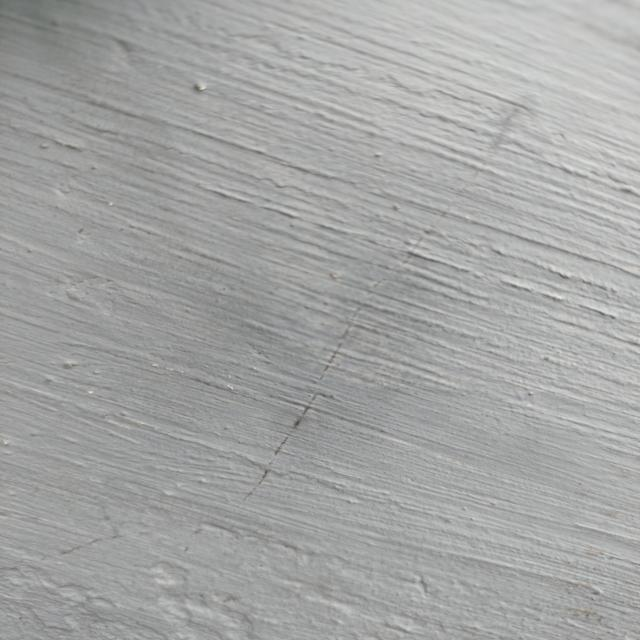Crack: (235, 113, 506, 516)
